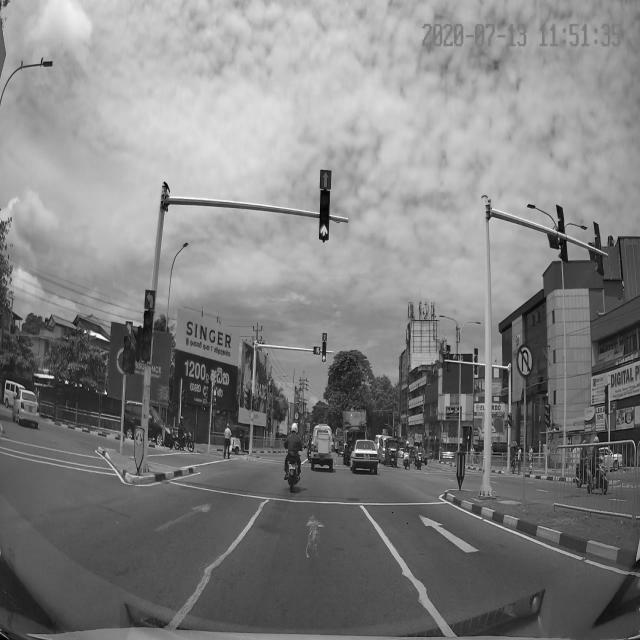forward: (368, 506, 527, 570)
